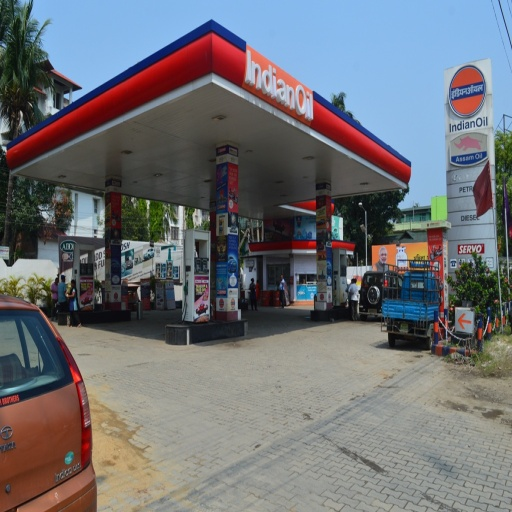roof: (12, 24, 413, 214)
